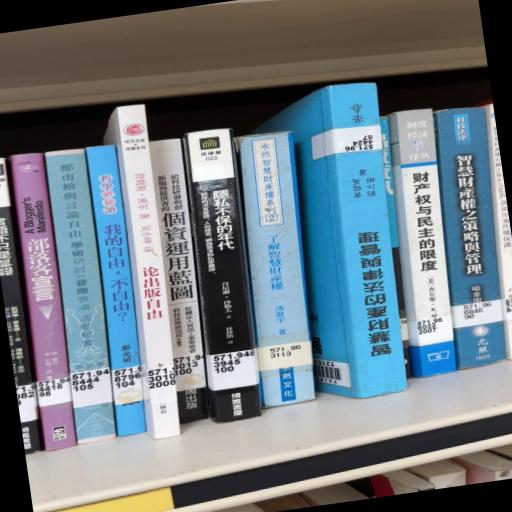book: (183, 128, 261, 423), (45, 149, 116, 444), (434, 107, 506, 369), (388, 108, 456, 377), (150, 139, 209, 423)
reverse: (253, 83, 407, 398)
